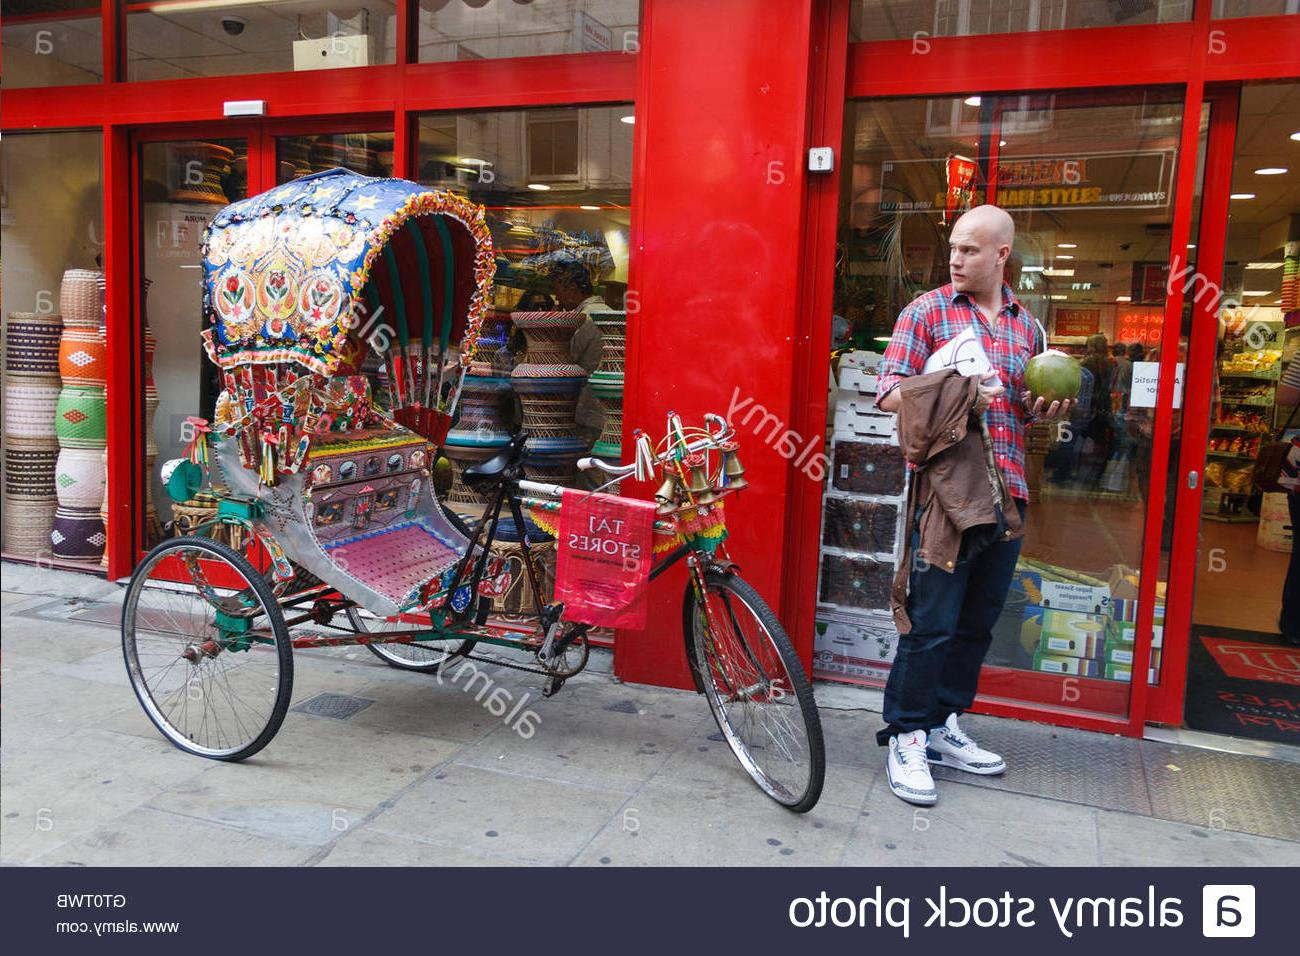Rickshaw: (140, 176, 831, 807)
